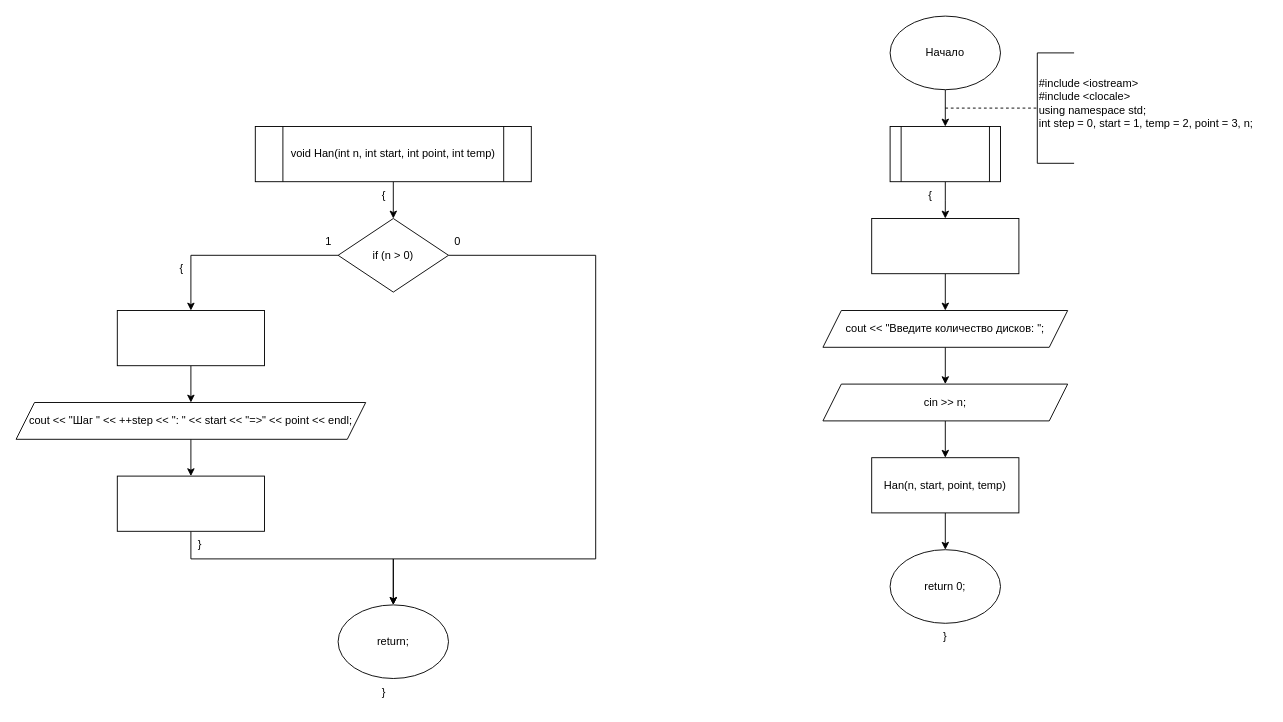
Some shapes in this 1283 by 722 pixel diagram are drawn without their labels. Each missing label, with the box of its shape:
Han(n-1, start, temp, point);: (116, 310, 264, 366)
Han(n-1, temp, point, start);: (116, 475, 264, 531)
int main(): (889, 126, 1000, 182)
setlocale(LC_ALL, "ru");: (871, 218, 1019, 274)
